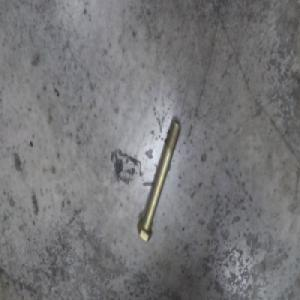Bolt: (140, 115, 183, 243)
